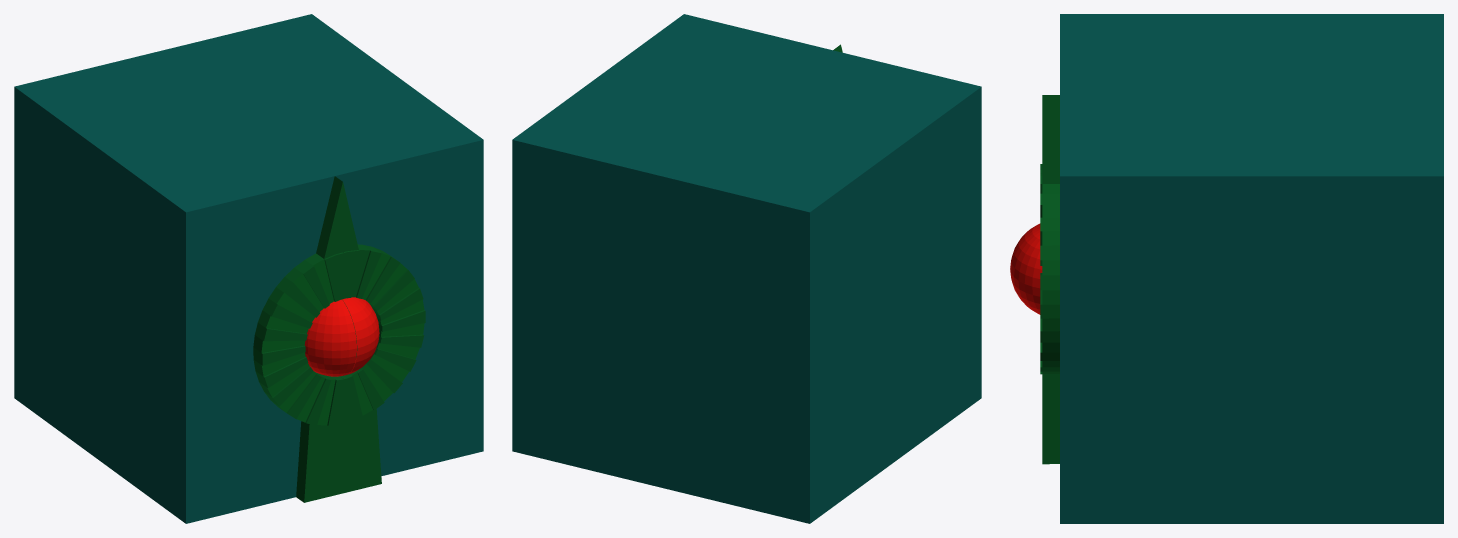
The model's file is Contenair.fbx.
3 views of the same model, side by side, from view 1: azimuth 30°, elevation 25°; view 2: azimuth 150°, elevation 25°; view 3: azimuth 270°, elevation 25° (orthographic). The views are drawn at different scales.
Parts seen in each view (by area): view 1: Contenair, Sphere; view 2: Contenair; view 3: Contenair, Sphere.
Part boxes in pixels (bbox=[...]): Contenair: bbox=[14, 14, 483, 523]; Sphere: bbox=[304, 297, 379, 376]; Contenair: bbox=[512, 14, 981, 523]; Contenair: bbox=[1040, 14, 1443, 523]; Sphere: bbox=[1010, 223, 1042, 314].
Bounding box in the file's own units: 945 × 945 × 1068.
